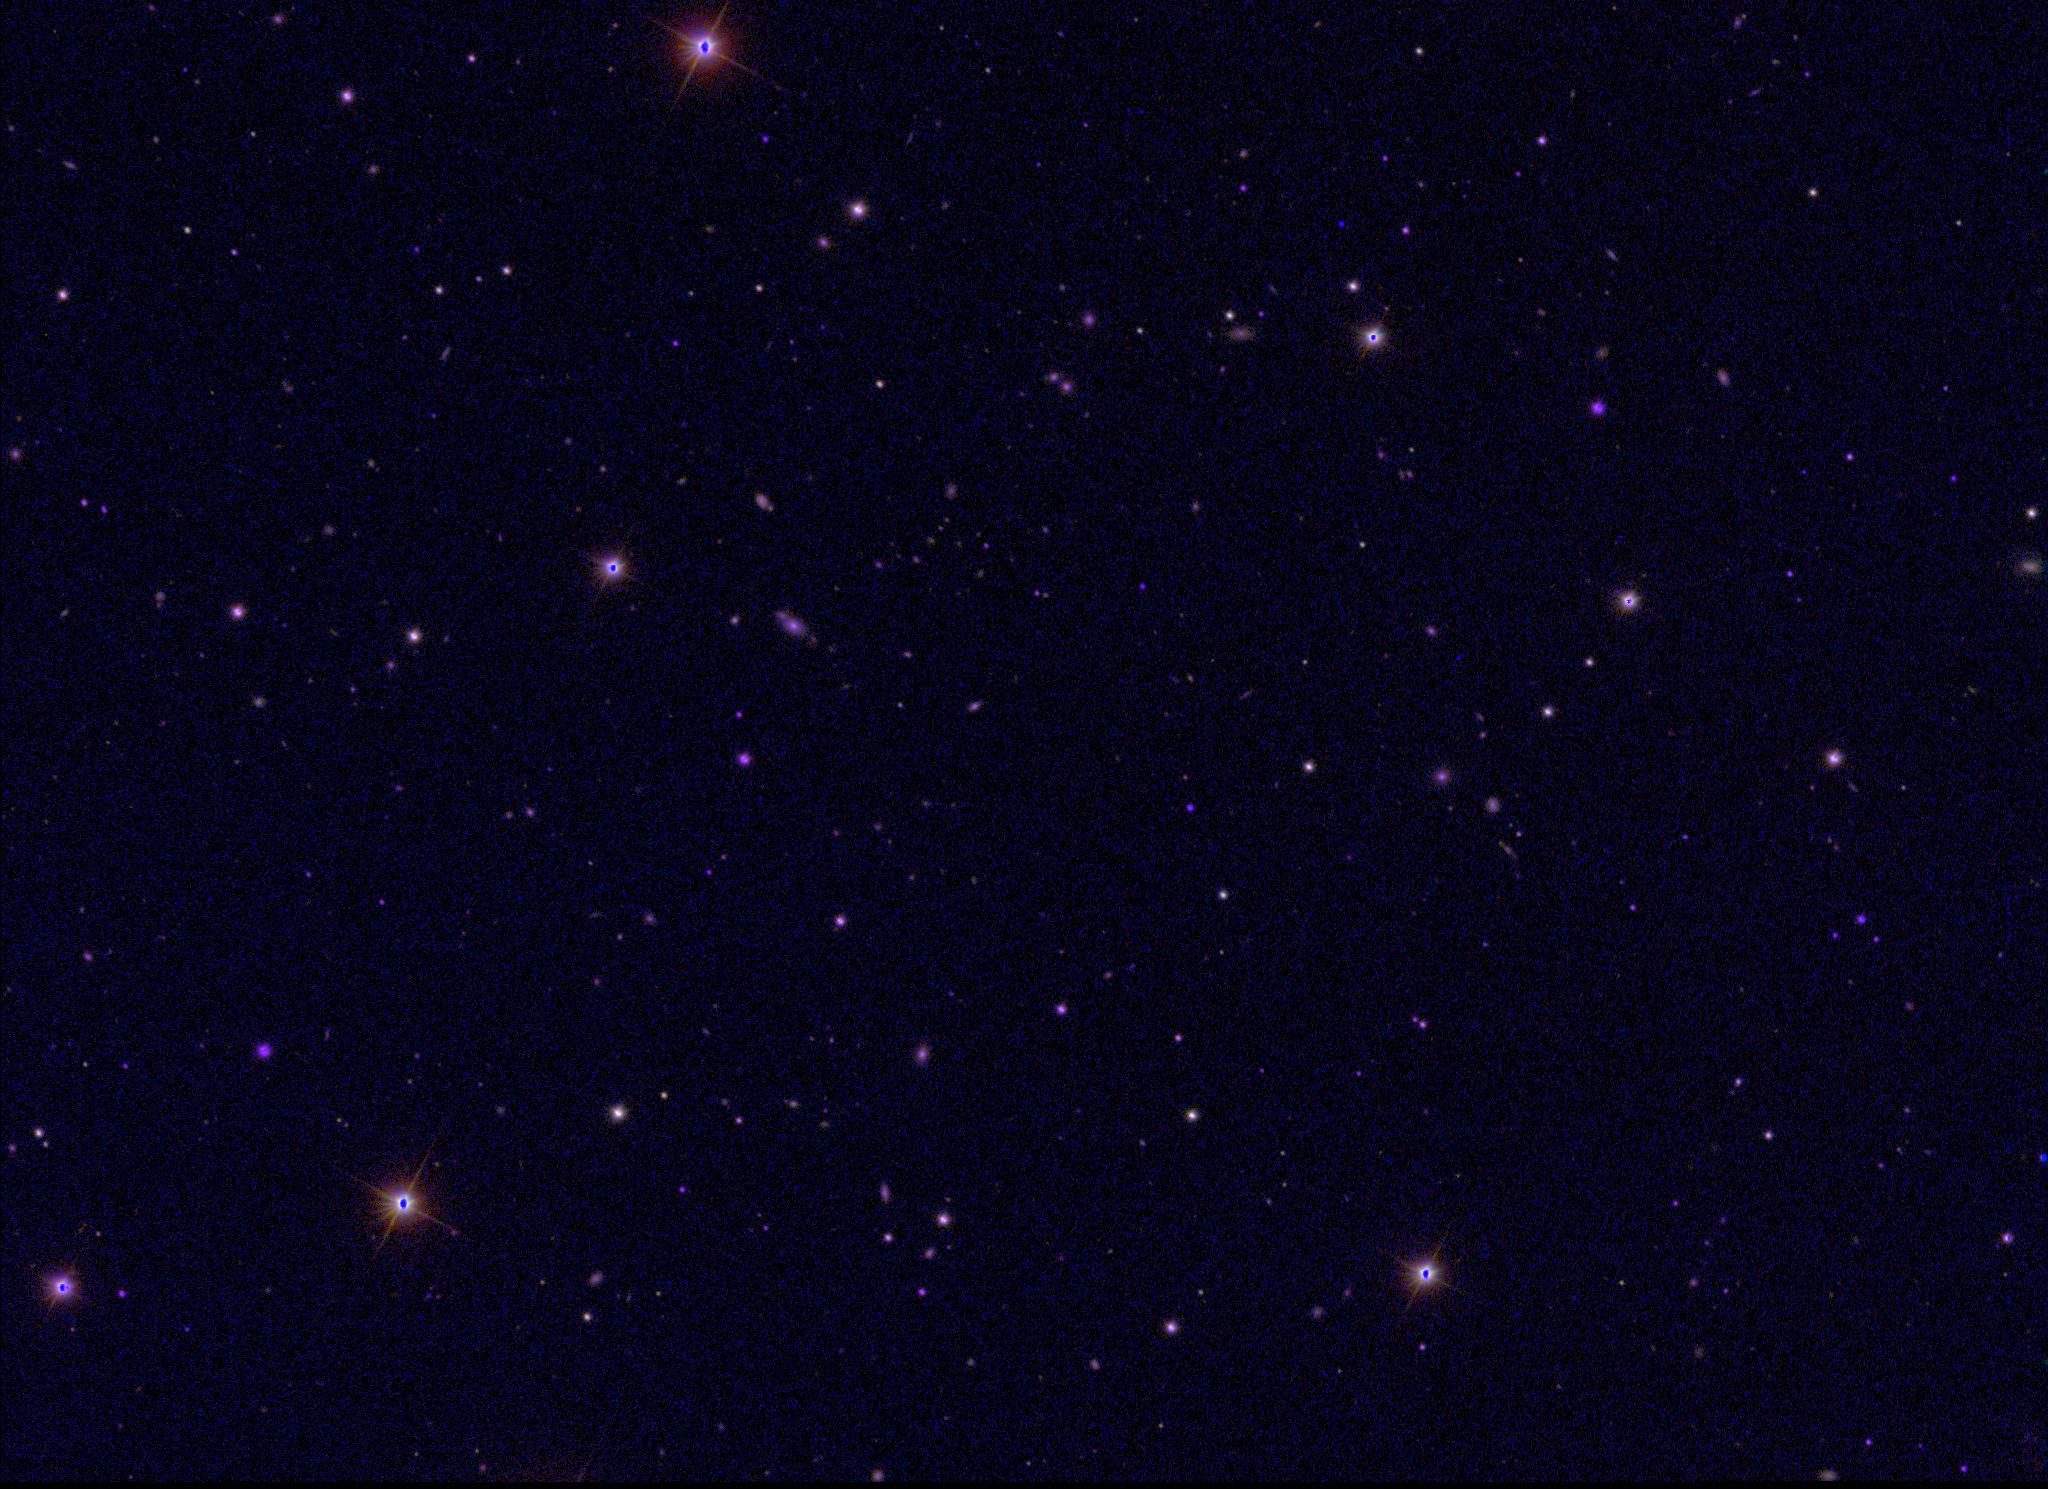L: (1336, 216, 1348, 231)
